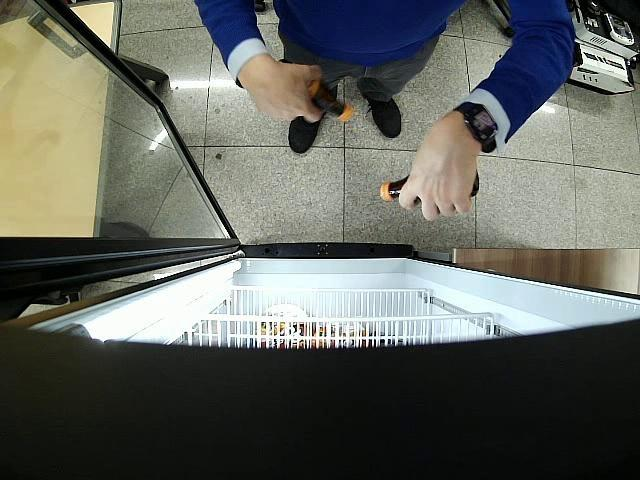17_vita500: (380, 170, 478, 202), (306, 80, 354, 122)
